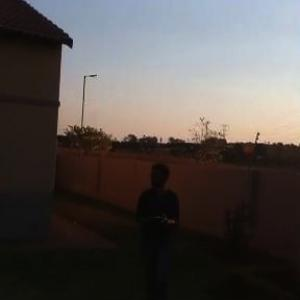follow: (128, 157, 181, 299)
